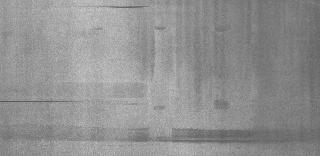scratches: (1, 95, 163, 110), (63, 2, 159, 12)
